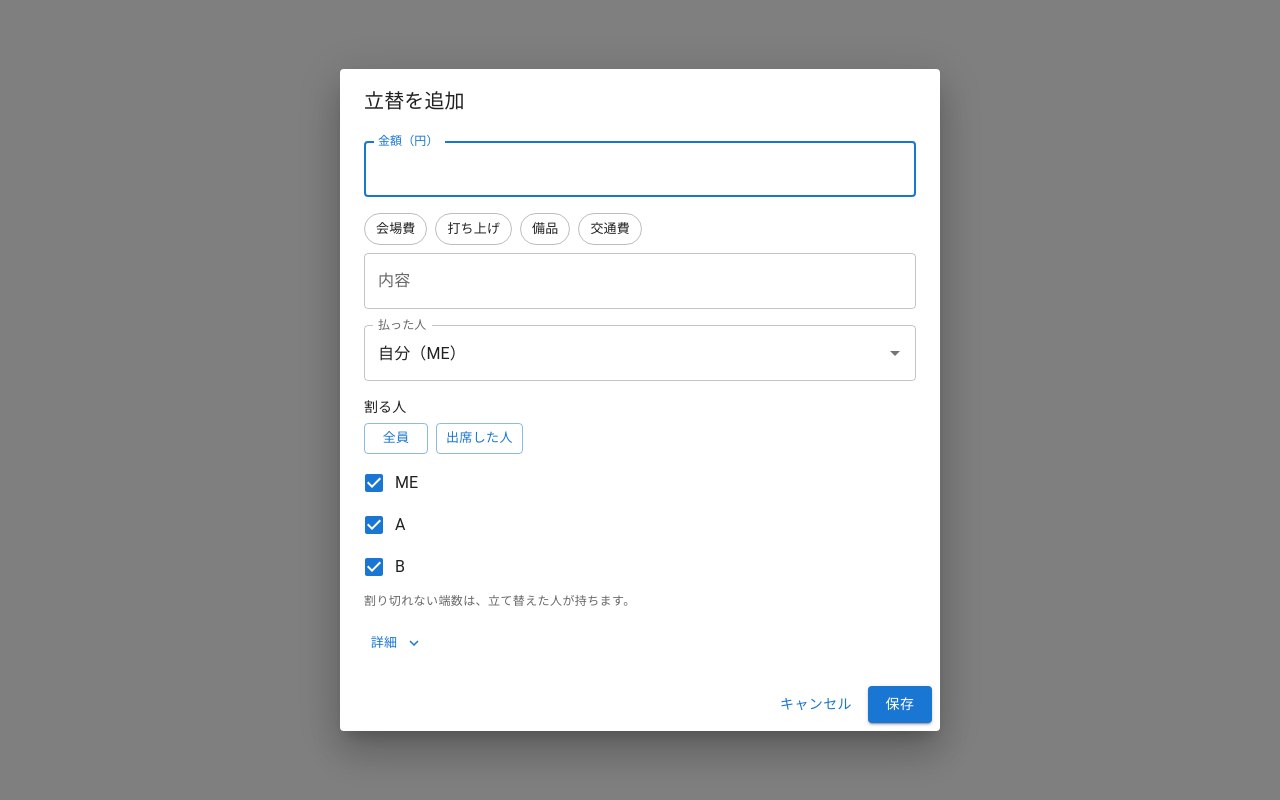
Scenario: 立替フォーム › 重みの欄は空にしてから打ち直せる。重み 1・2・1 の 1,000円は「重み 1 あたり約 250円」
In the field labelled "金額（円）": (640, 169) x1=364 y1=141 x2=916 y2=197, type "1000"
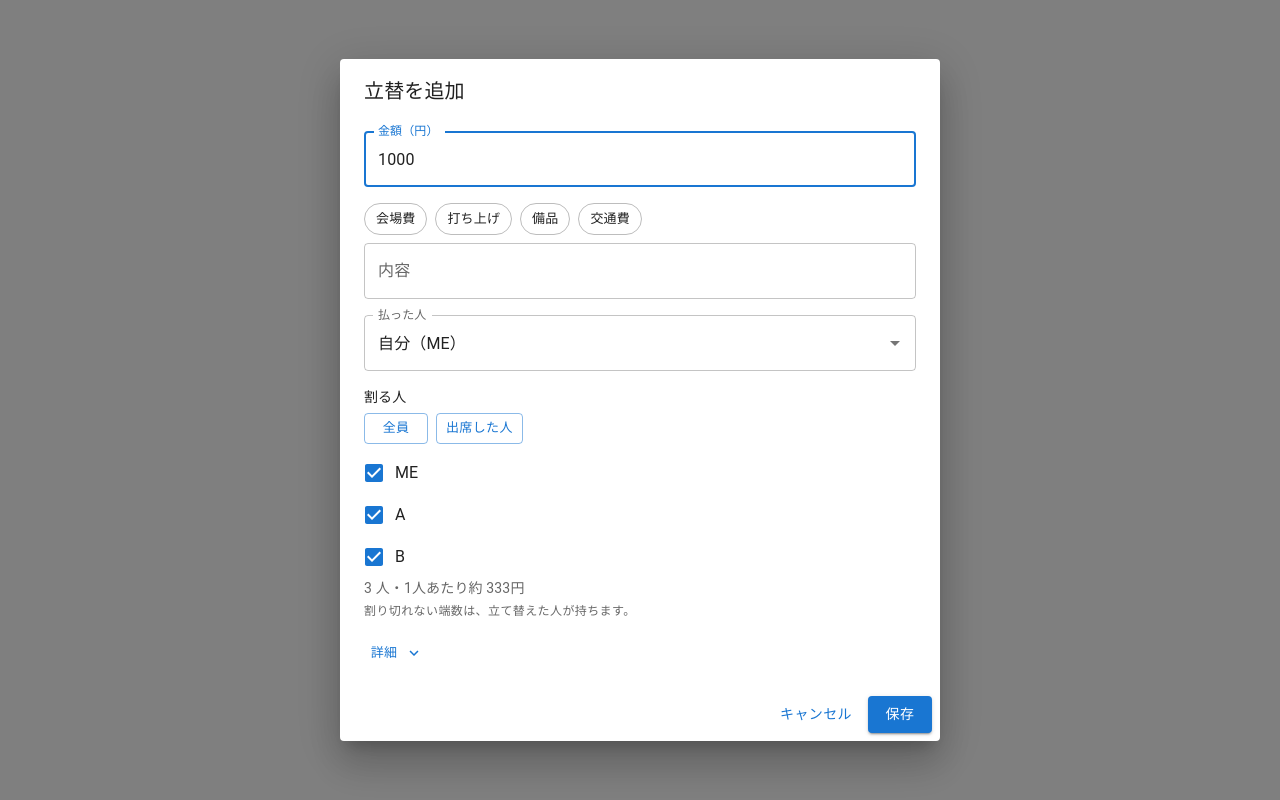
Click the button "詳細": click(396, 653) x1=364 y1=638 x2=428 y2=668
(page scrolled)
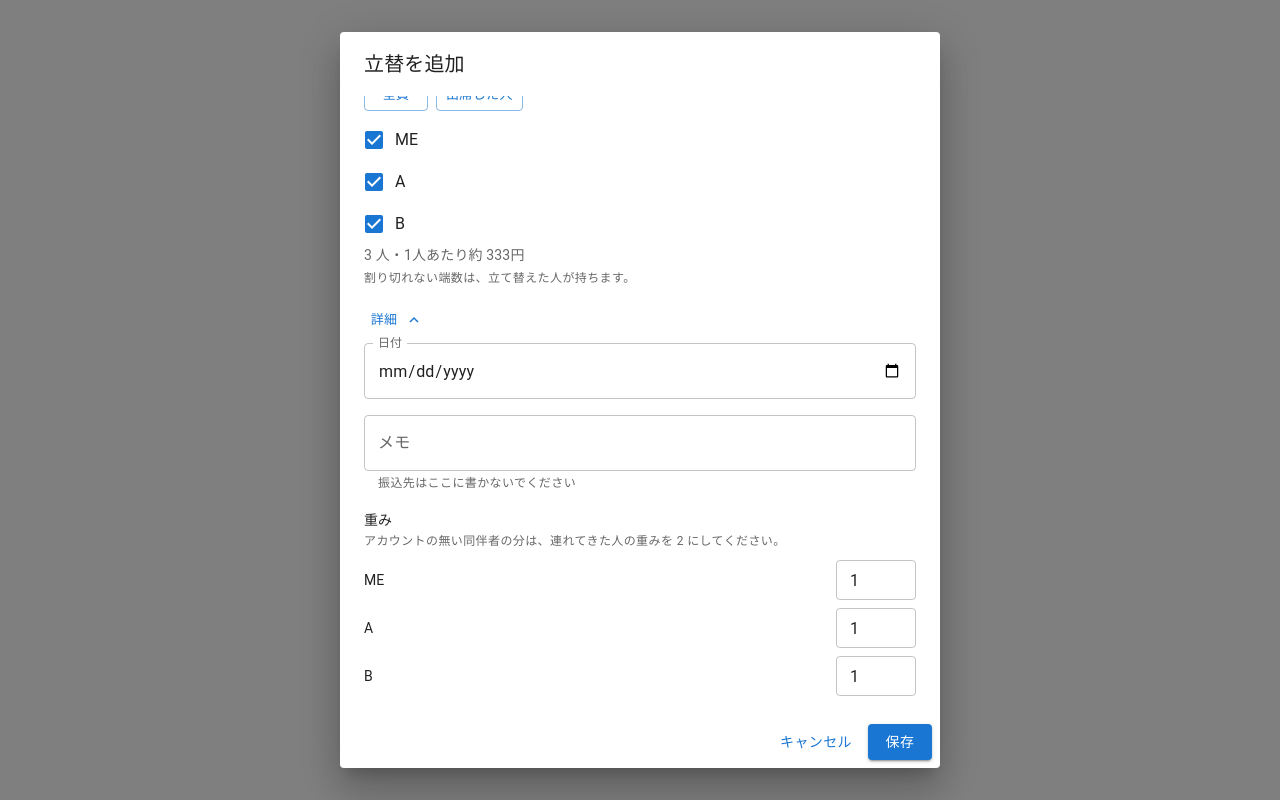
Clear the field named "重み A": (876, 628) x1=836 y1=608 x2=916 y2=648
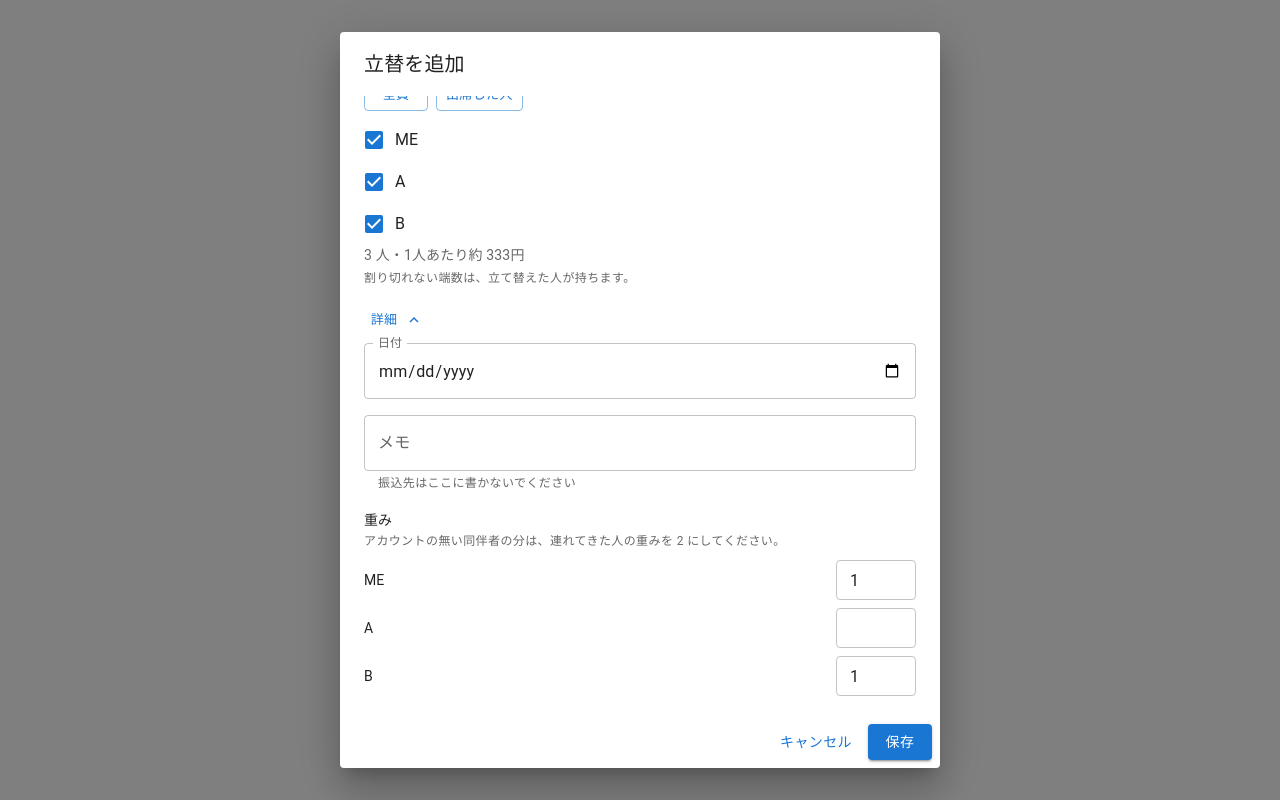
In the field named "重み A": (876, 628) x1=836 y1=608 x2=916 y2=648, type "2"
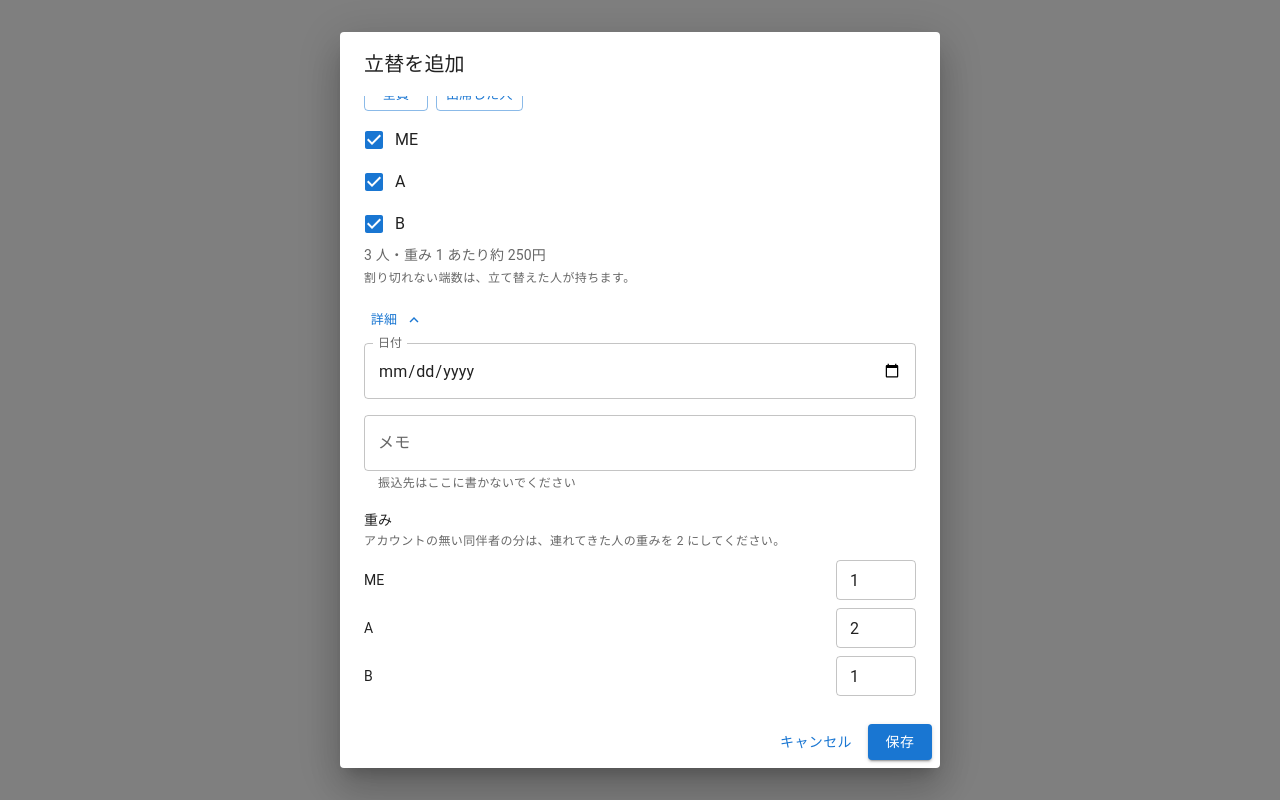
Expected: the text "3 人・重み 1 あたり約 250円" is shown, x1=364 y1=247 x2=546 y2=263
